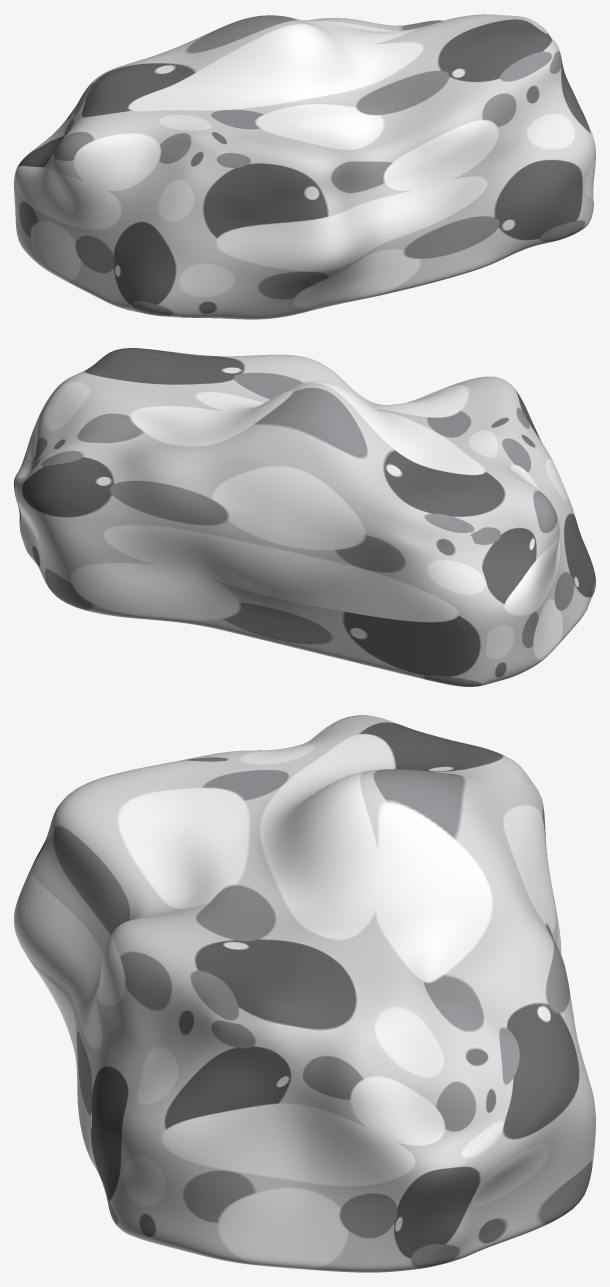
File: Stone1.fbx
The picture shows the model from 3 angles, top to bottom: view 1: azimuth 30°, elevation 25°; view 2: azimuth 150°, elevation 25°; view 3: azimuth 270°, elevation 25°; orthographic projection. The views are drawn at different scales.
Visible parts, largest first — view 1: Stone1; view 2: Stone1; view 3: Stone1.
Part boxes in pixels (left/top/right/bottom): Stone1: left=14, top=14, right=595, bottom=319; Stone1: left=14, top=348, right=595, bottom=686; Stone1: left=14, top=715, right=595, bottom=1272.
Size of the model in its own units: 4.91 by 1.89 by 3.3.
1 material, 1 textured.
